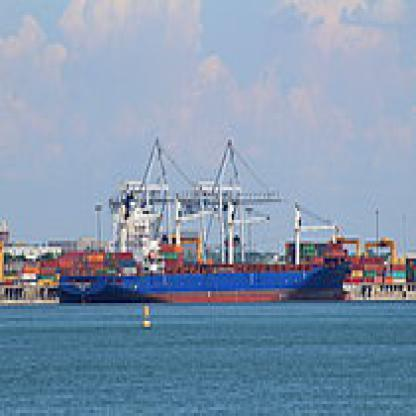Container Ship: (54, 135, 352, 304)
